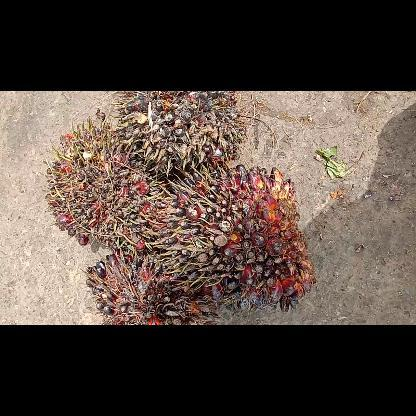TBS abnormal: (169, 164, 317, 310), (44, 122, 172, 256), (114, 92, 242, 174), (87, 256, 207, 324)
